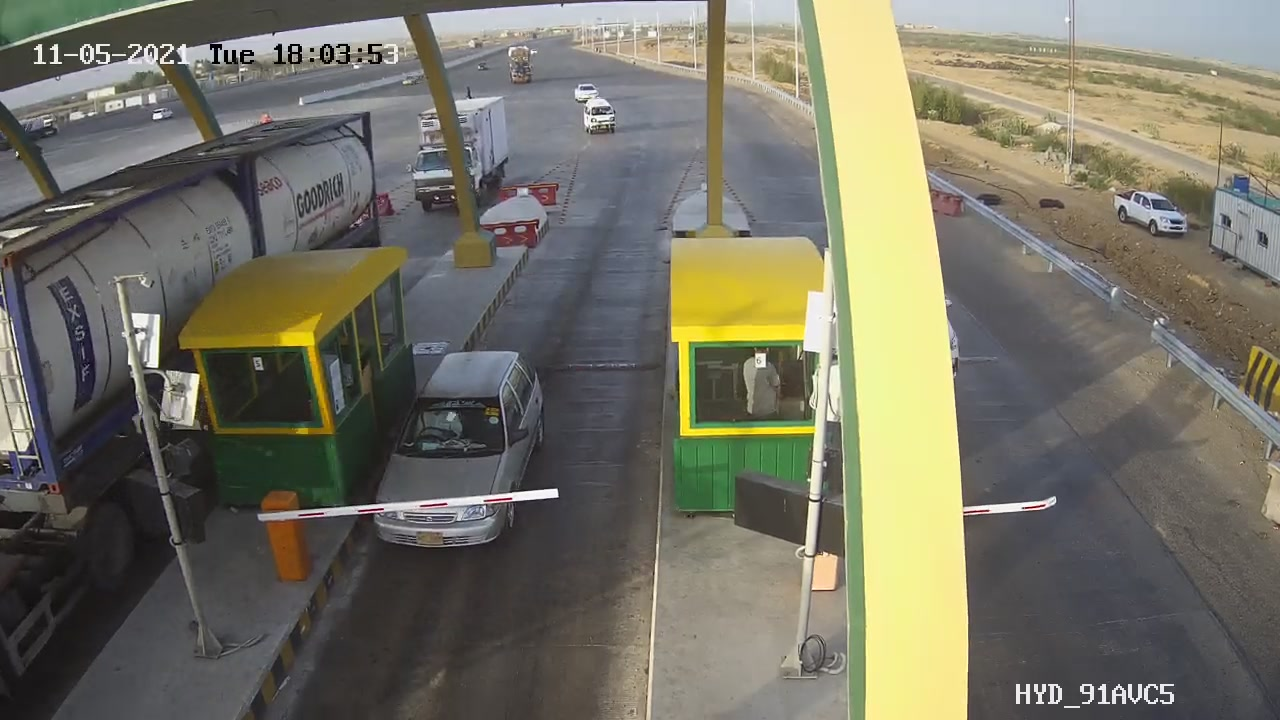F1: (350, 336, 564, 574)
